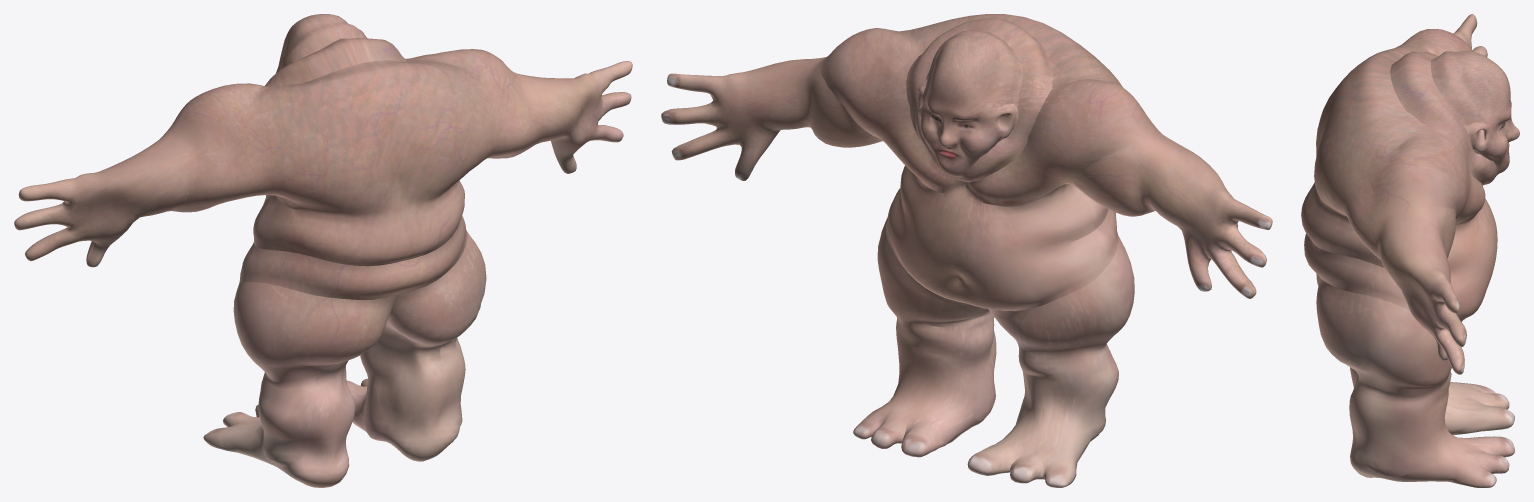
Rendered from fat-guy.glb.
3 views of the same model, side by side, from view 1: azimuth 30°, elevation 25°; view 2: azimuth 150°, elevation 25°; view 3: azimuth 270°, elevation 25° (orthographic). The views are drawn at different scales.
Visible parts, largest first — view 1: fat_man_Plane.002; view 2: fat_man_Plane.002; view 3: fat_man_Plane.002.
Part boxes in pixels (x1,y1,x2,y2): fat_man_Plane.002: [14, 14, 632, 487]; fat_man_Plane.002: [661, 14, 1272, 487]; fat_man_Plane.002: [1301, 14, 1519, 487].
Bounding box in the file's own units: 6.39 × 4.23 × 2.1.
Materials: 2 (2 with a texture image).
